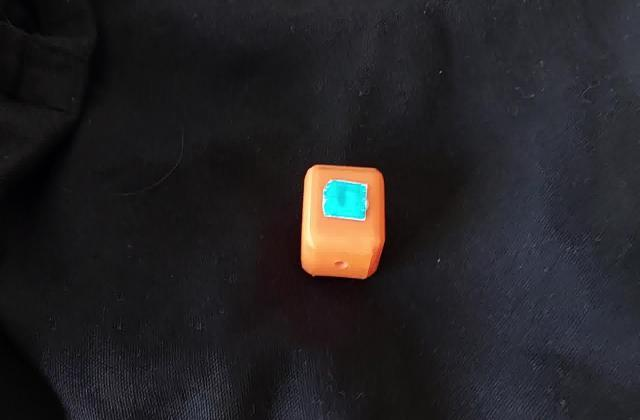blue: (331, 188, 364, 214)
sticker: (297, 160, 390, 285)
